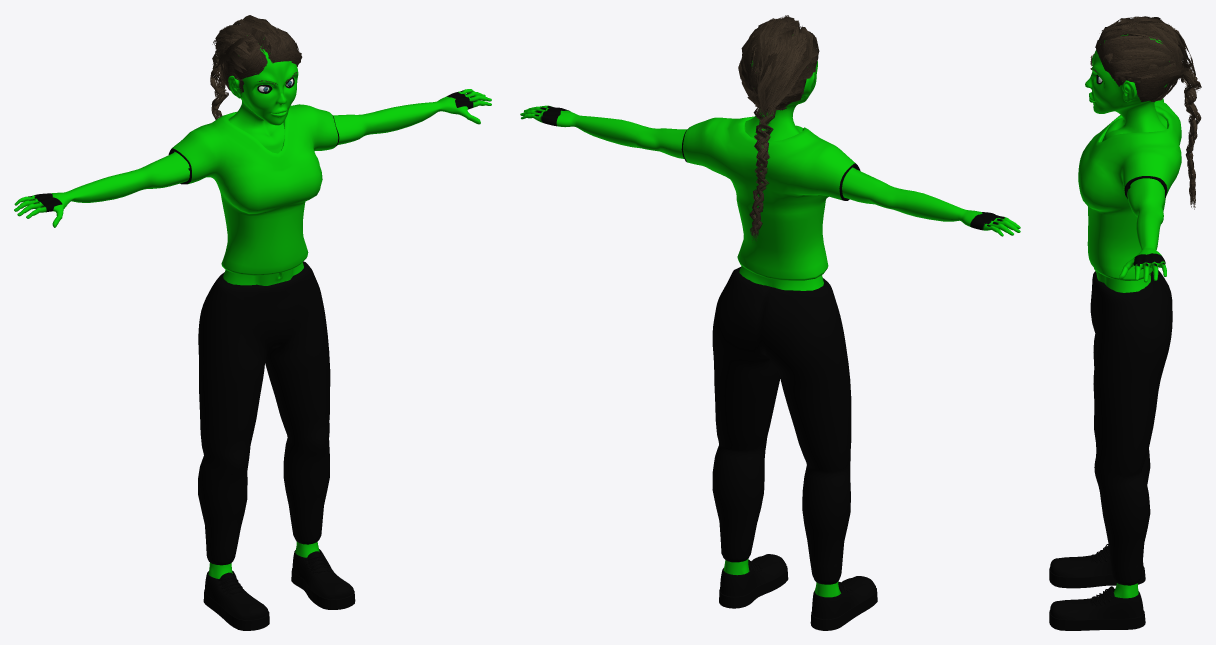
Rendered from MainCharacter_FinalMesh_NotRIgged.fbx.
3 renders of one model, left to right at view 1: azimuth 30°, elevation 25°; view 2: azimuth 150°, elevation 25°; view 3: azimuth 270°, elevation 25°, orthographic. The views are drawn at different scales.
Parts seen in each view (by area): view 1: Main_Character_C; view 2: Main_Character_C; view 3: Main_Character_C.
Part boxes in pixels (box(x1,y1,x2,y2)): Main_Character_C: box(14, 15, 491, 630); Main_Character_C: box(520, 15, 1020, 630); Main_Character_C: box(1049, 16, 1201, 630).
Bounding box in the file's own units: 9.03 × 10.32 × 2.45.
